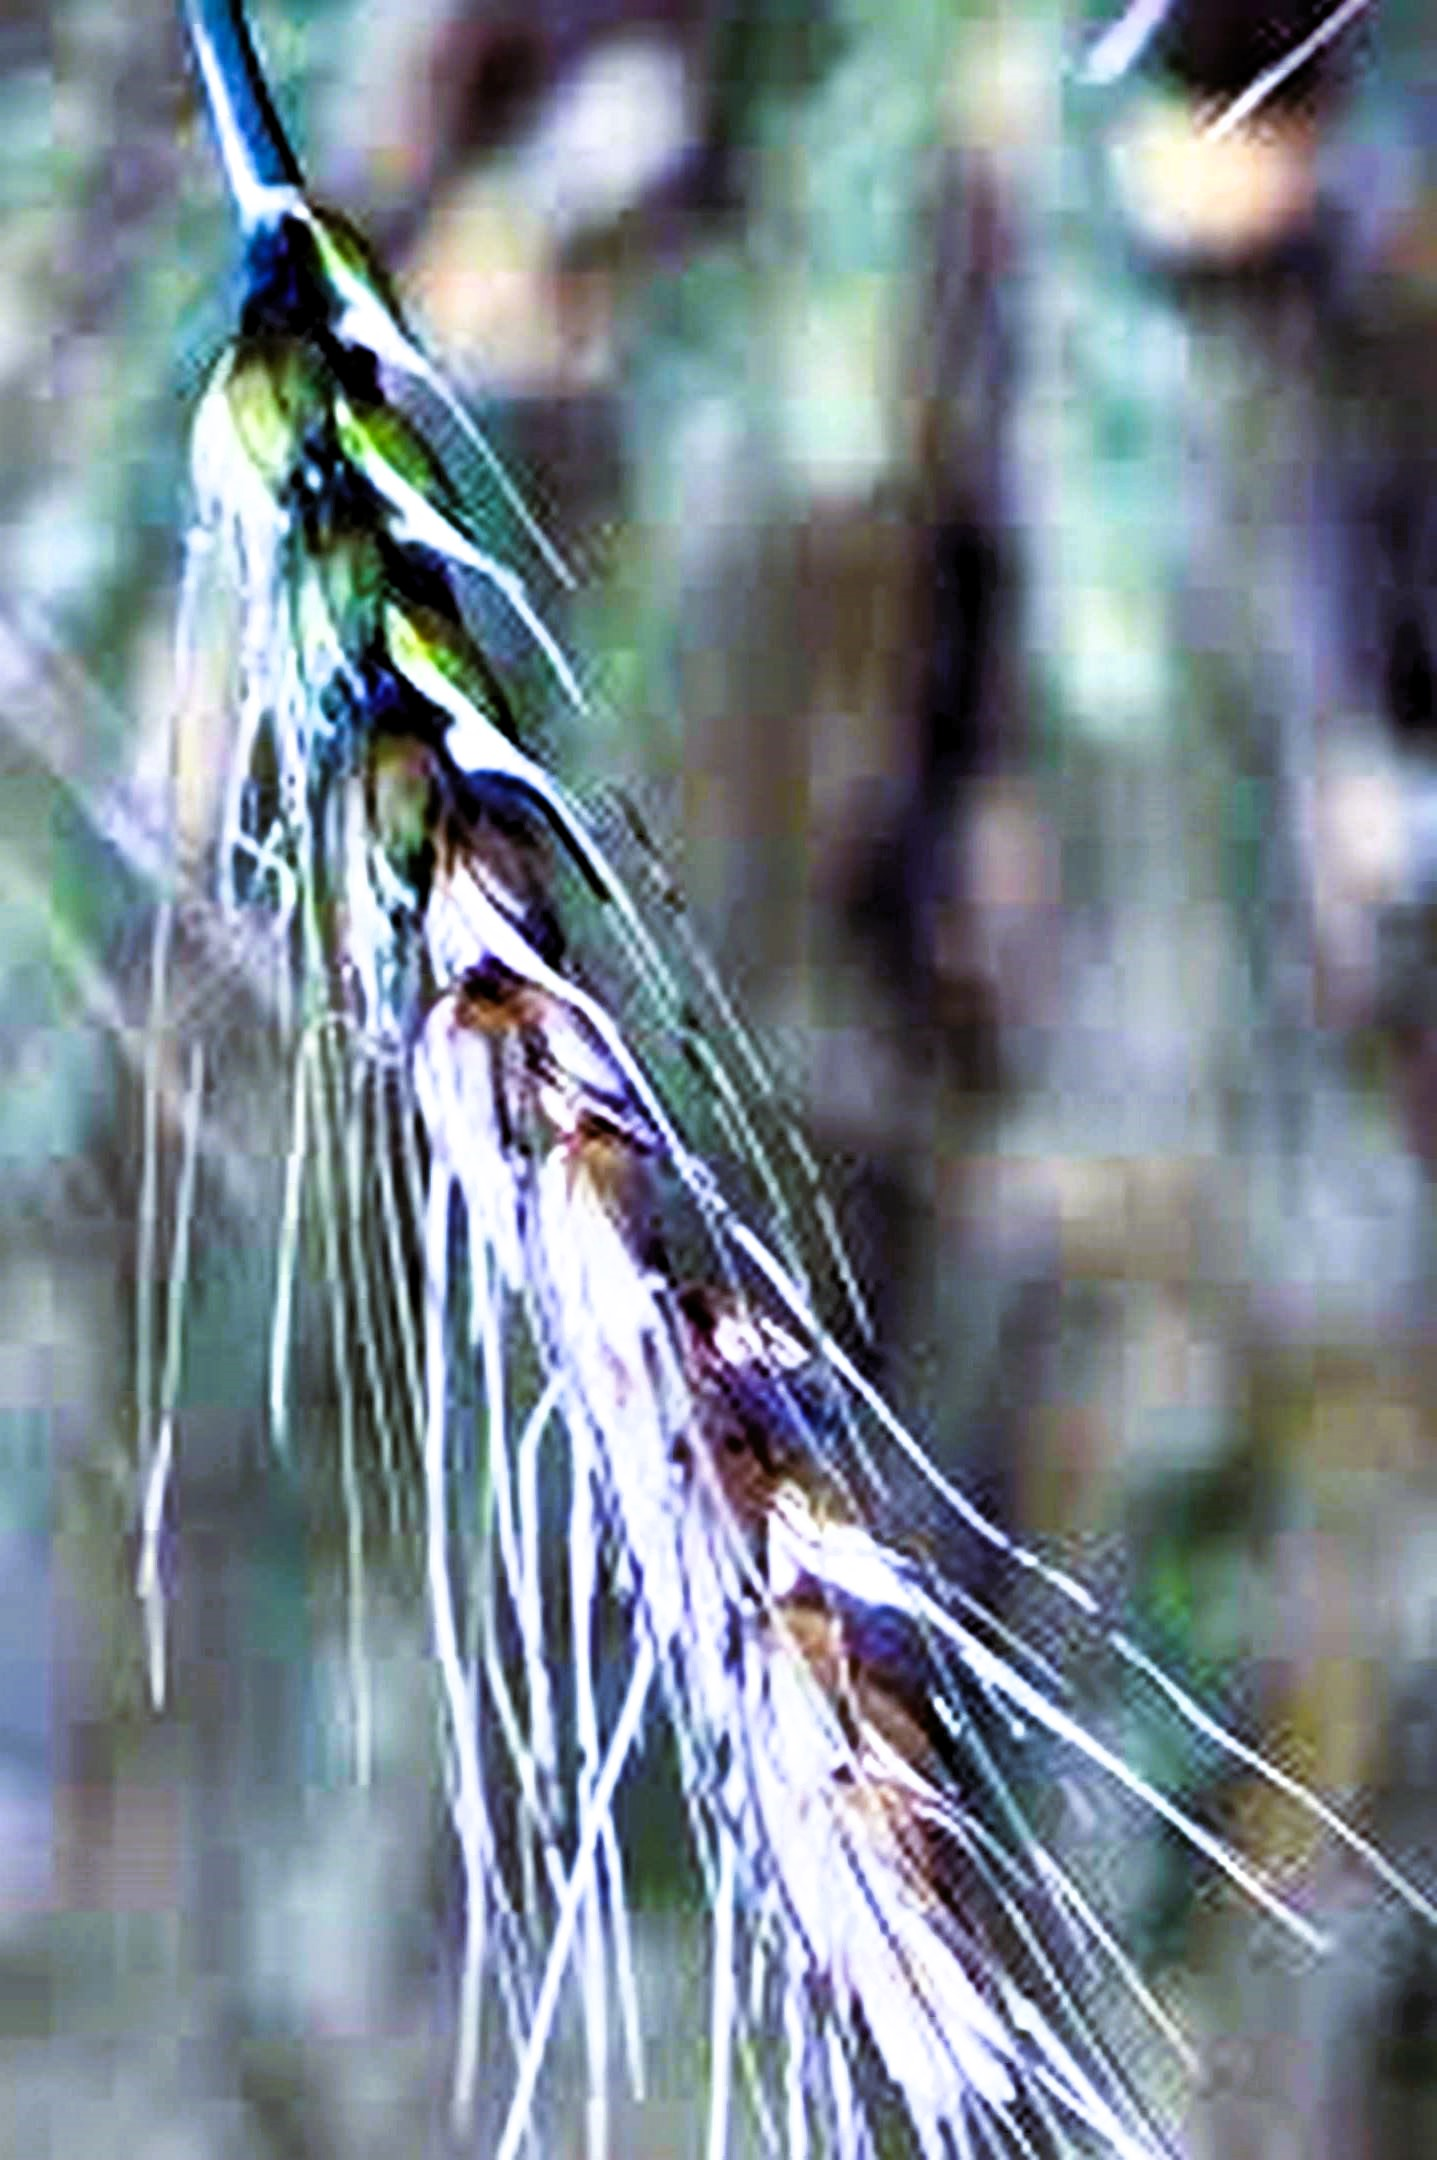Wheat scab: (170, 303, 1042, 2112)
